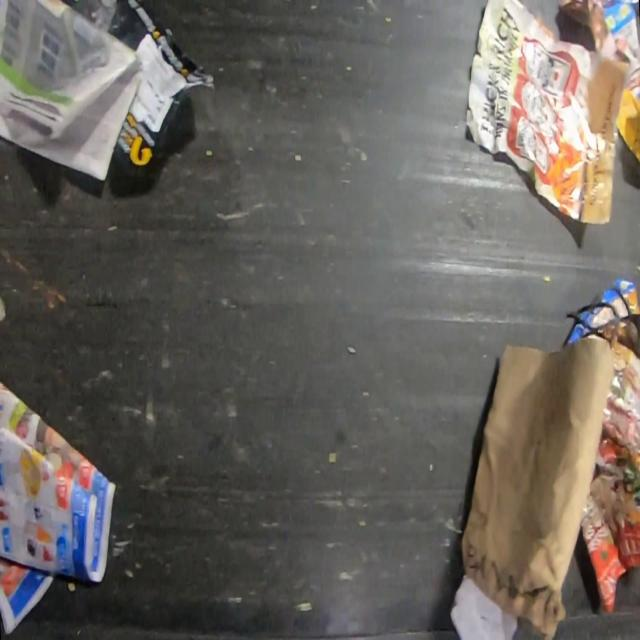cardboard: (458, 336, 616, 637)
